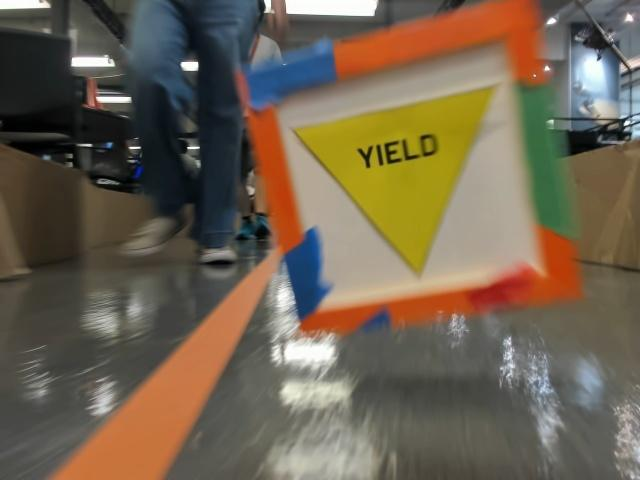Yield: (292, 122, 501, 297)
